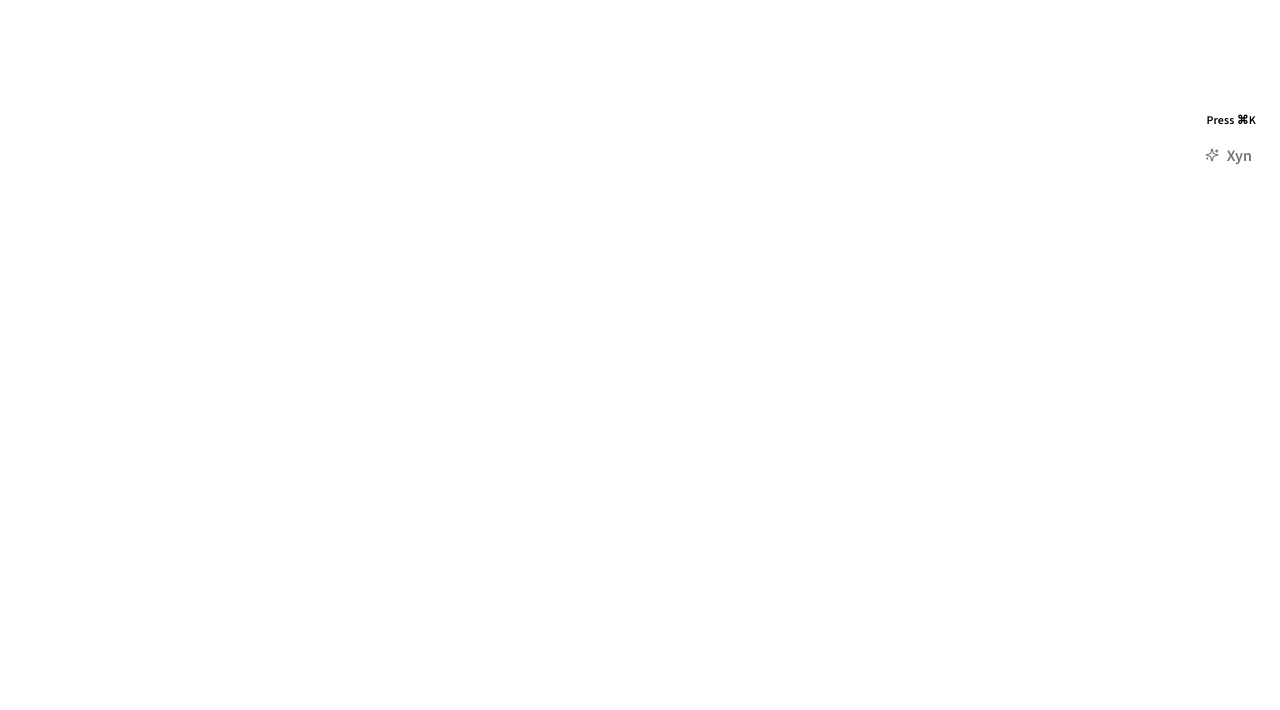
Test case: XynConsole › hides deprecated articles in recent by default and reveals them when enabled
The image size is (1280, 710).
Press k
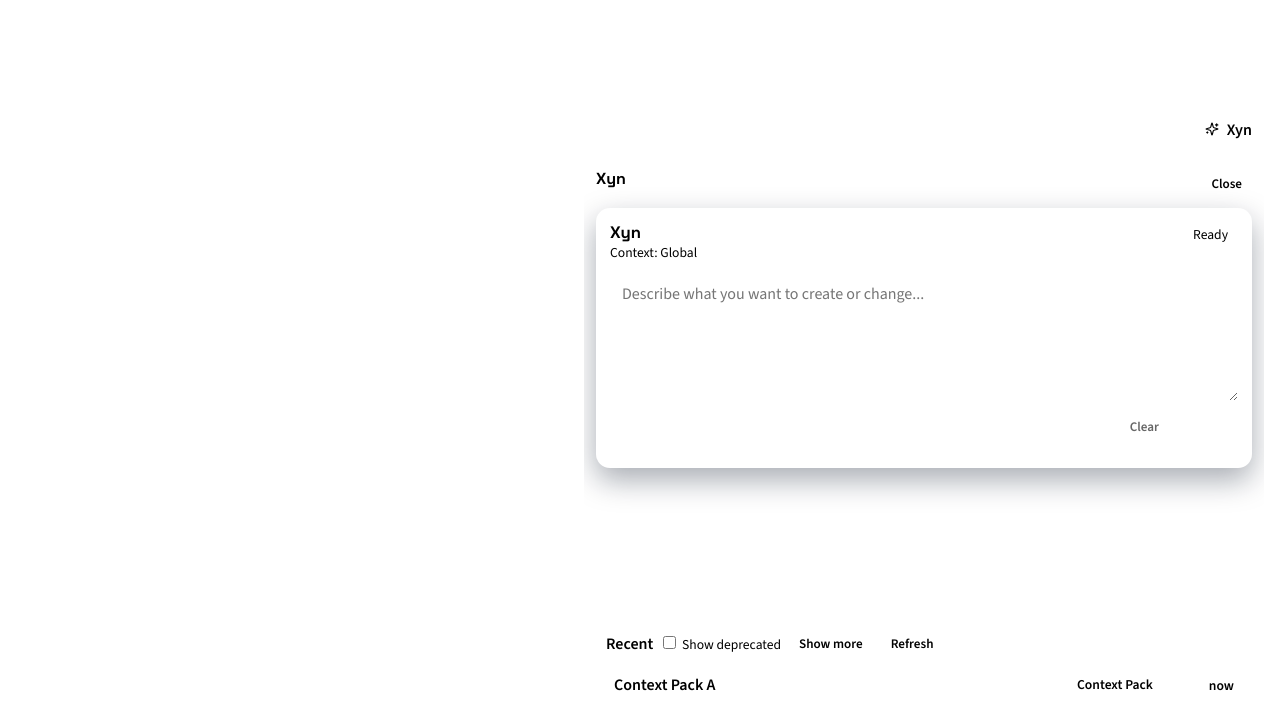
Expected: the list item "Deprecated Article" is not shown
Now the text "Recent" is shown, box [606,632,653,654]
Now the list item "Context Pack A Context Pack now" is shown, box [606,666,1242,703]
Click the checkbox labelled "Show deprecated".
click(670, 642)  # box [663,636,676,649]
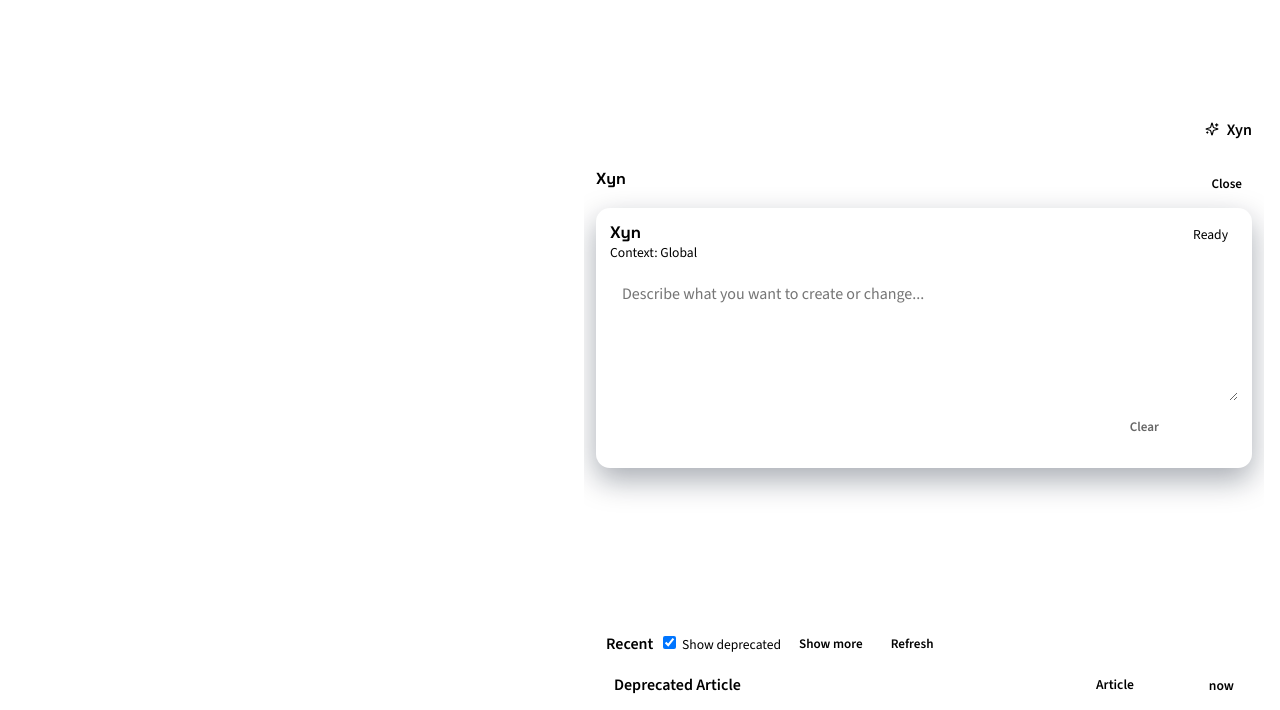
Now the list item "Deprecated Article Article now" is shown, box [606,666,1242,703]
